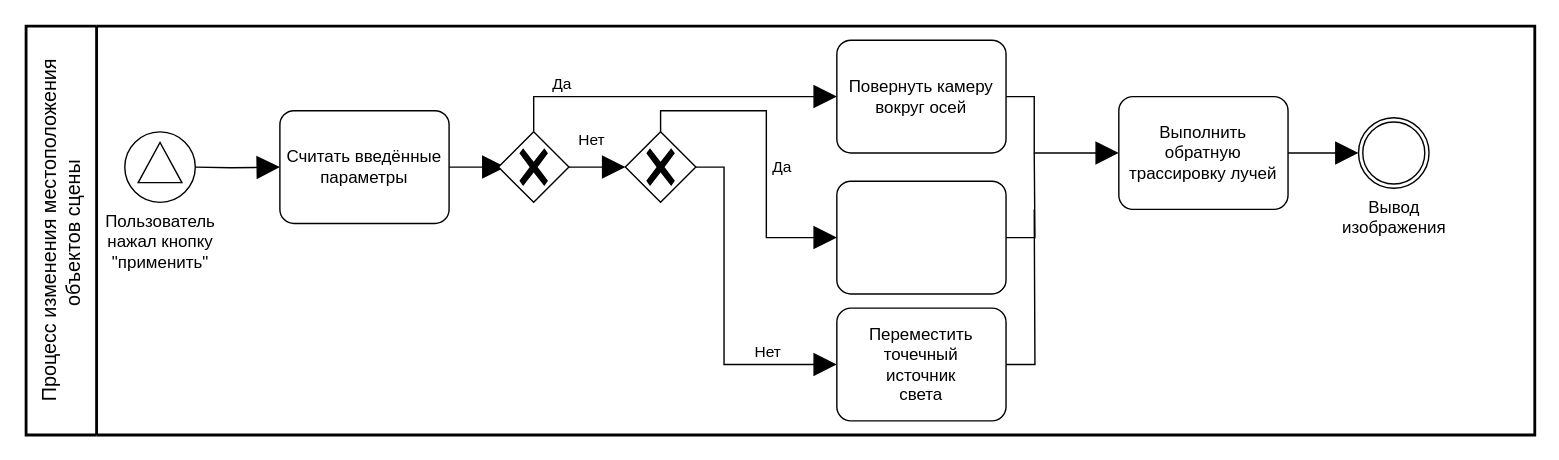
This 1559x460 diagram has some shape labels left out. Each missing label, with the centre of its shape:
Параметры относятся к камере?: the point at 660,166
Параметры относятся к повороту?: the point at 533,166
Переместить камеру: the point at 920,237
